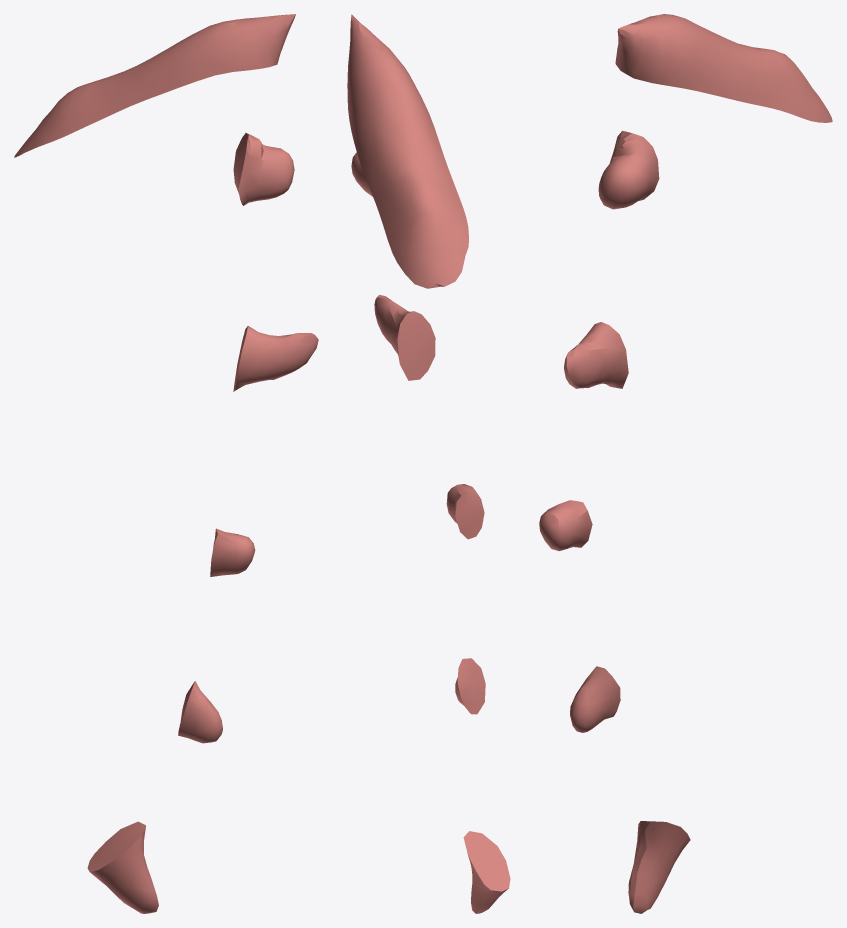
File: fma49311-f_mm4020m.glb
3 renders of one model, left to right at view 1: azimuth 30°, elevation 25°; view 2: azimuth 150°, elevation 25°; view 3: azimuth 270°, elevation 25°, orthographic. The views are drawn at different scales.
Parts seen in each view (by area): view 1: FMA49311-F_MM4020M; view 2: FMA49311-F_MM4020M; view 3: FMA49311-F_MM4020M.
Part boxes in pixels (box(x1,y1,x2,y2)): FMA49311-F_MM4020M: box(14, 14, 318, 913); FMA49311-F_MM4020M: box(347, 14, 510, 913); FMA49311-F_MM4020M: box(539, 14, 832, 913).
Size of the model in its own units: 0.0318 by 0.136 by 0.0378.
